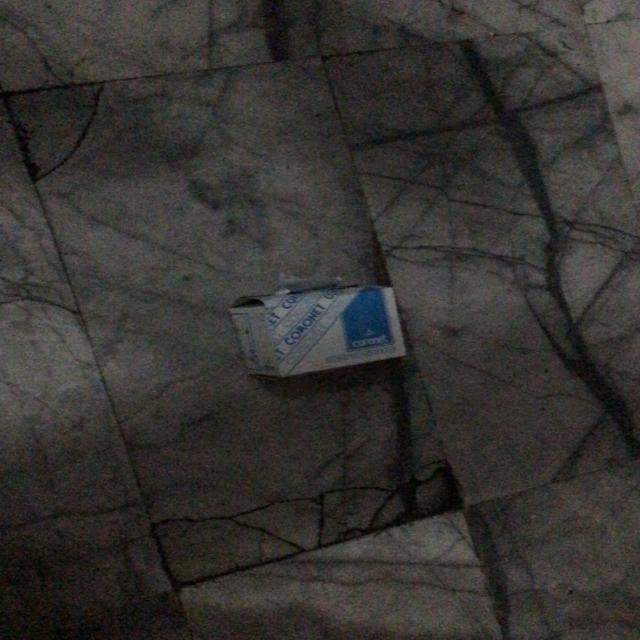cardboard: (202, 278, 410, 386)
